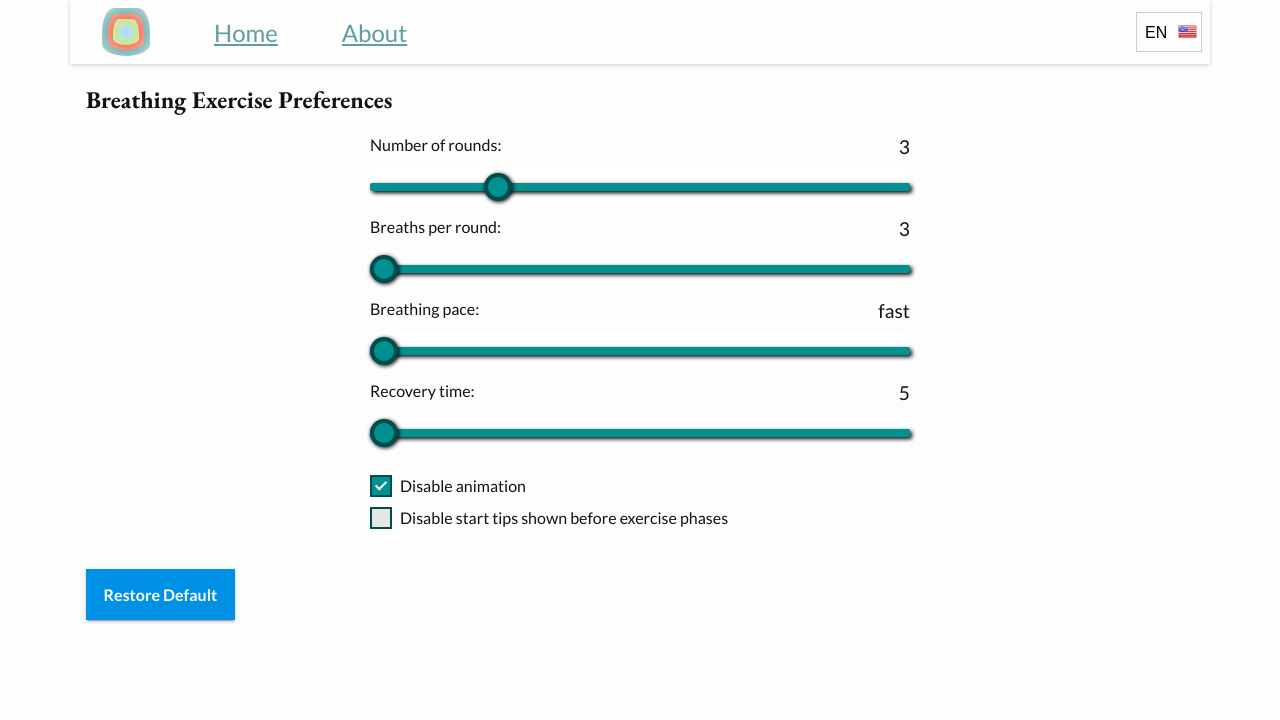
Scenario: /preferences screen › controls are usable › displays and allows to update value of the range control
Check: the label "Number of rounds: 3" is shown, box [370,135,910,210]
Check: the text with test id "value" in the row of "Number of rounds:" reads "3", box [899,135,910,158]
Click the slider labelled "Number of rounds: 3" at (909, 188), box [370,168,910,207]
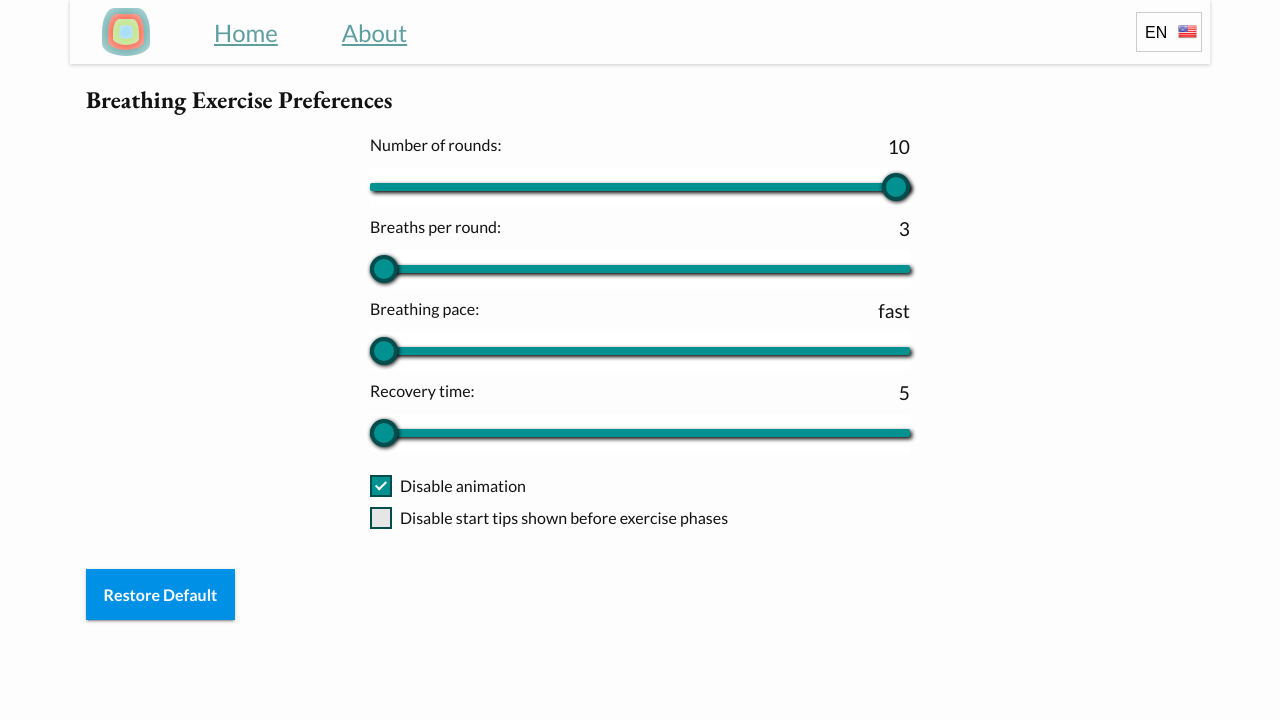
Check: the slider labelled "Number of rounds: 10" holds "10", box [370,168,910,207]
Check: the text with test id "value" reads "10", box [888,135,910,158]
